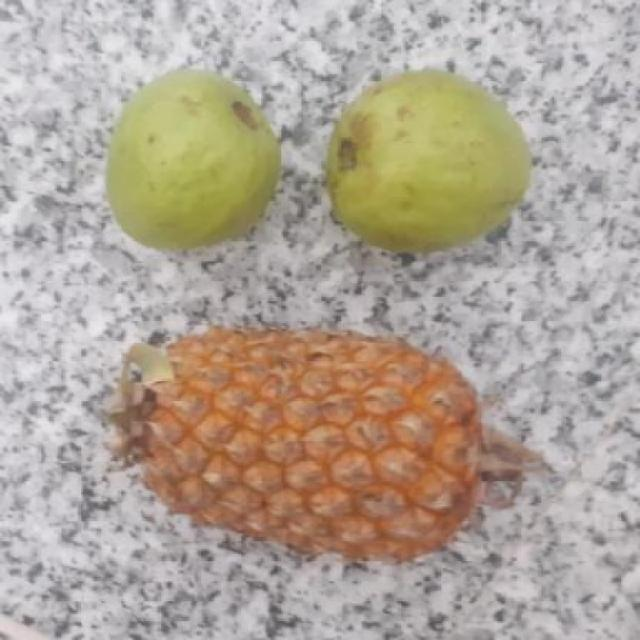guava: (313, 68, 530, 248), (99, 72, 286, 246)
pear: (96, 68, 290, 245)
pineapple: (99, 323, 502, 560)
